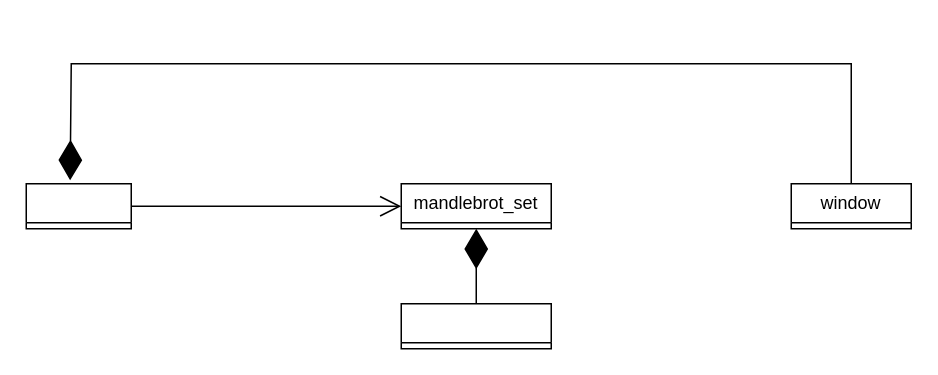
Image size: 938x375. Some labels were removed from this diagram. Here are the shapes that lost their labels. From the top down, the centre of each, then its label:
At (x=78, y=205): "main".
At (x=475, y=325): "quadratic".
